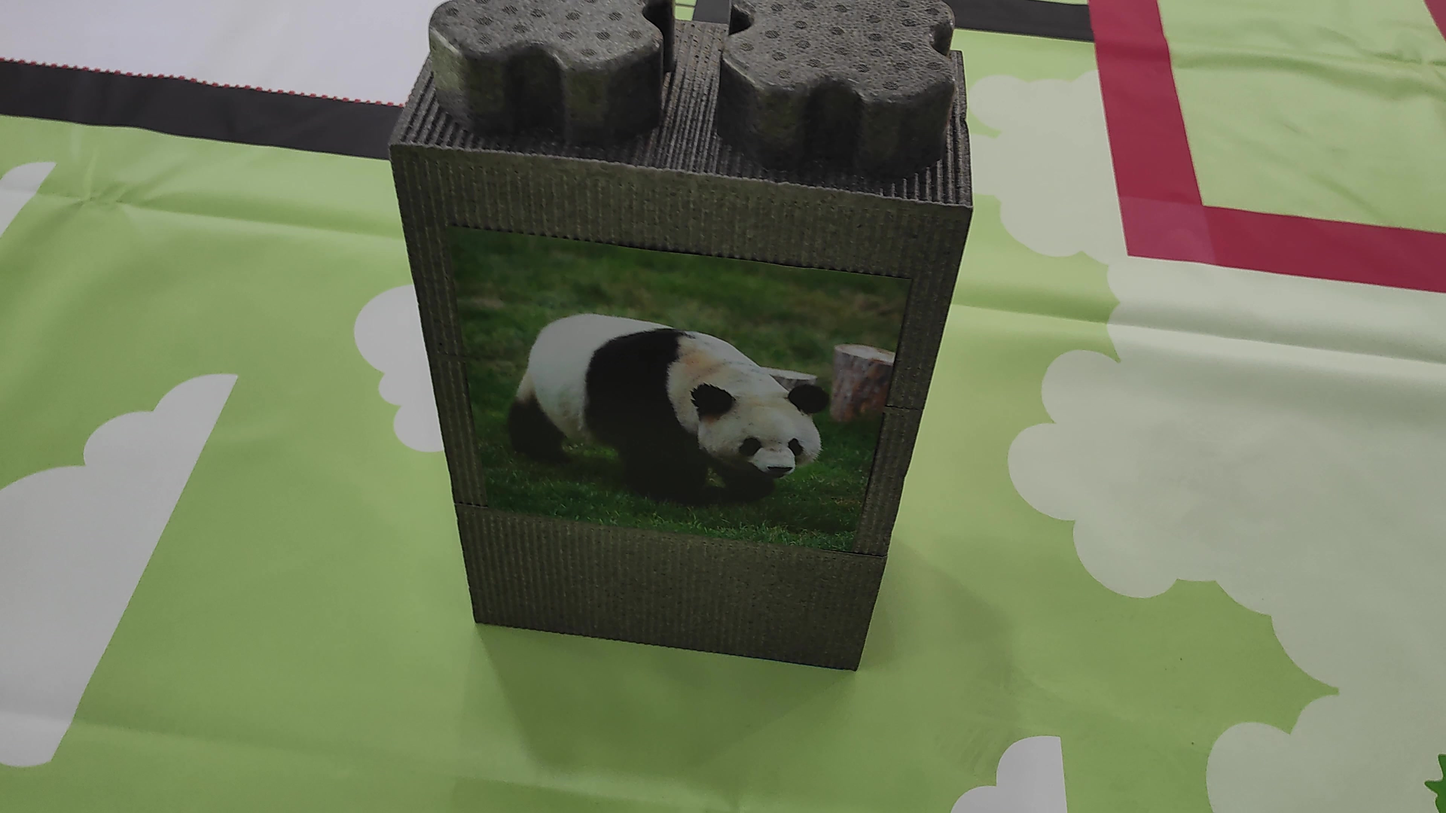panda: (488, 283, 857, 534)
